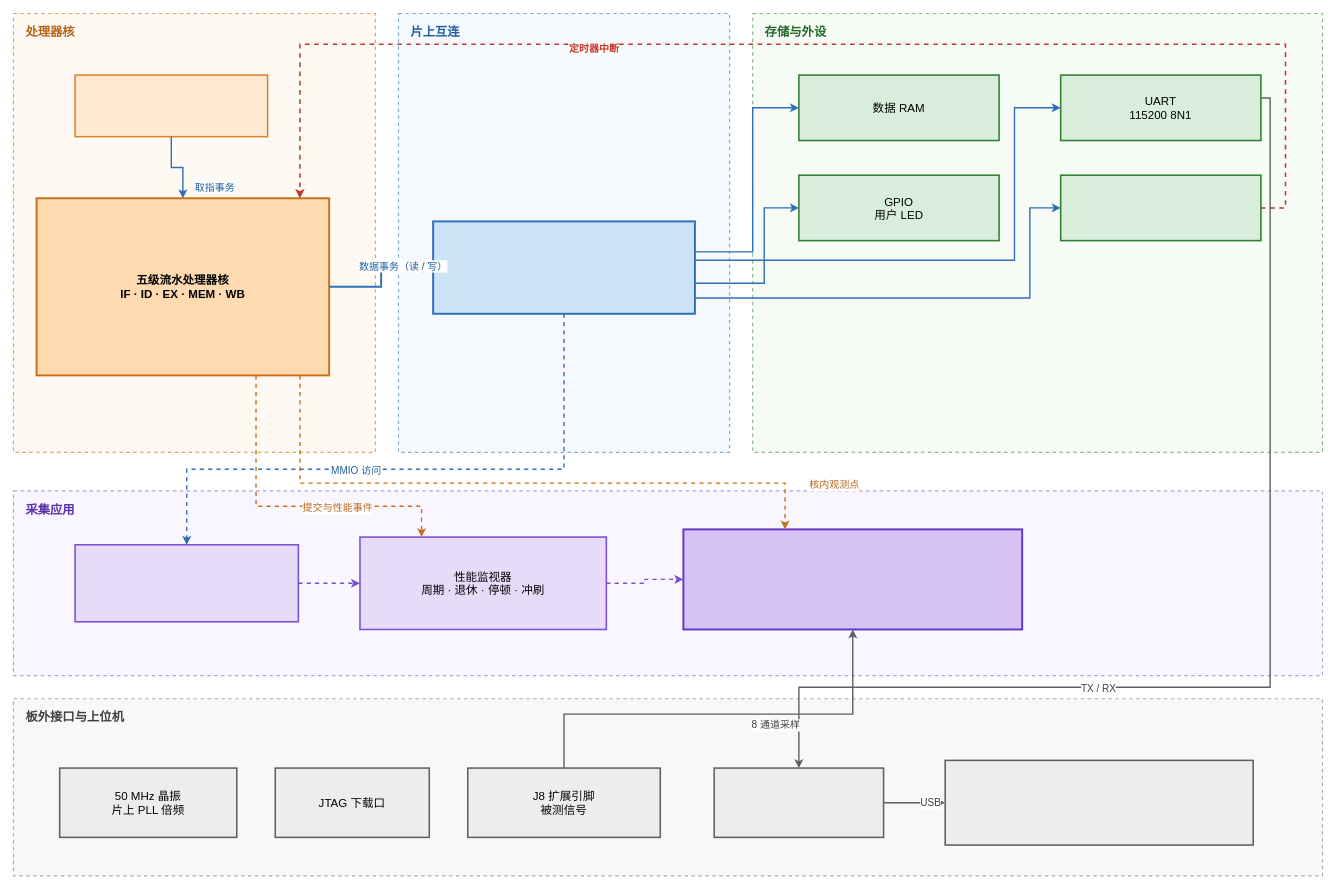
This 1337x890 diagram has some shape labels left out. Each missing label, with the centre of its shape:
"CP2102 USB-UART" goes at point (798, 802).
"PC 上位机 波形显示 · 仪器读数" goes at point (1099, 802).
"SoC 数据互连 地址译码 · 背压" goes at point (564, 267).
"八通道逻辑分析仪 采集引擎 · 触发 · 2048 样本" goes at point (852, 579).
"定时器 mtime · mtimecmp" goes at point (1160, 207).
"应用 MMIO 复用" goes at point (186, 583).
"程序存储器" goes at point (171, 105).
